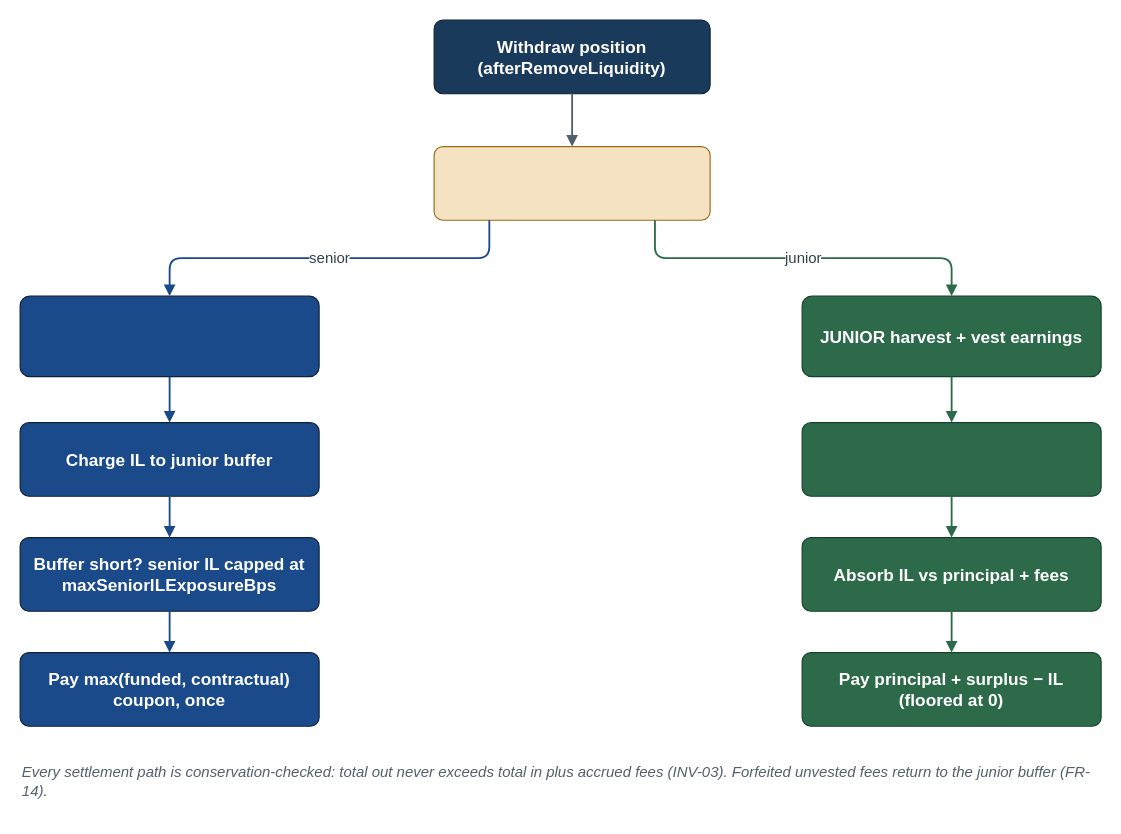
The diagram is 1121 pixels wide and 834 high, and some of its shapes have lost their labels. Each missing label, with the box of its shape:
IL = max(exit, anchor) (R2-01 self-sandwich guard): (801, 421, 1101, 496)
SENIOR harvest + vest earnings: (19, 295, 319, 377)
Which tranche?: (433, 145, 710, 220)
